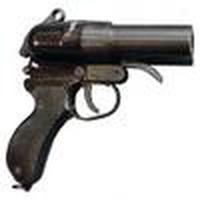gun: (1, 9, 188, 200)
